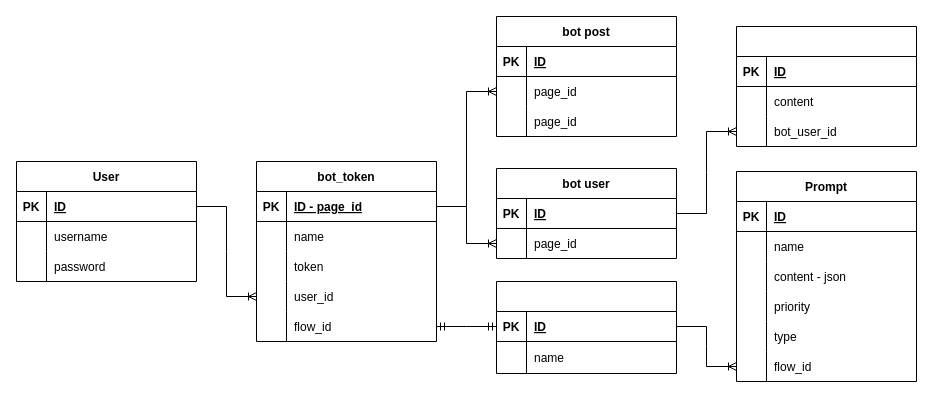
Some shapes in this 933 by 398 pixel diagram are drawn without their labels. Here are the shapes that lost their labels. From the top down, the box of each, then its label:
(736, 26, 916, 146): message
(496, 280, 676, 374): flow
